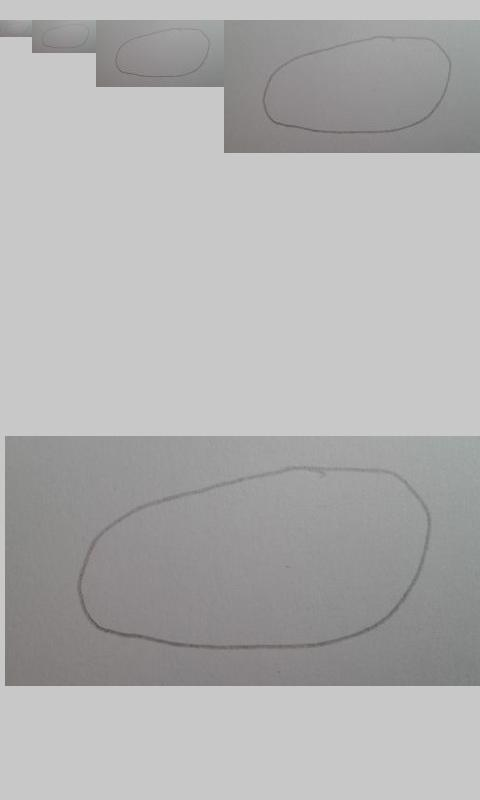chip: (76, 465, 433, 650), (260, 35, 453, 135), (114, 27, 211, 78), (39, 24, 91, 49), (1, 22, 32, 36)
